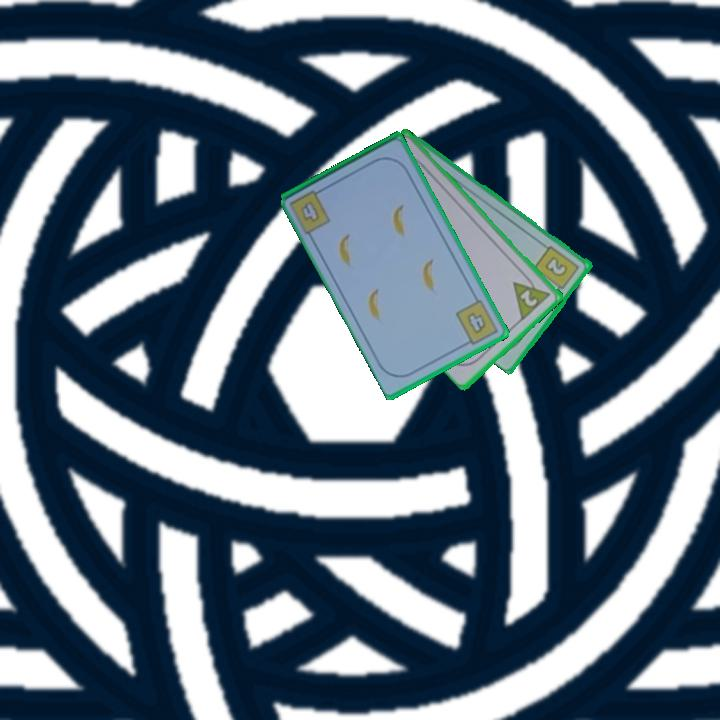2b: (531, 242, 583, 296)
2p: (509, 269, 554, 323)
4b: (452, 296, 501, 349), (297, 197, 323, 226)
